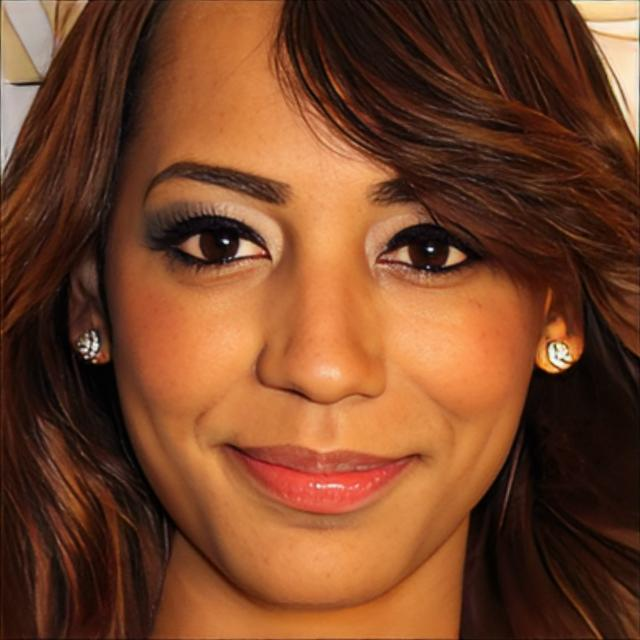happy: (97, 22, 543, 606)
